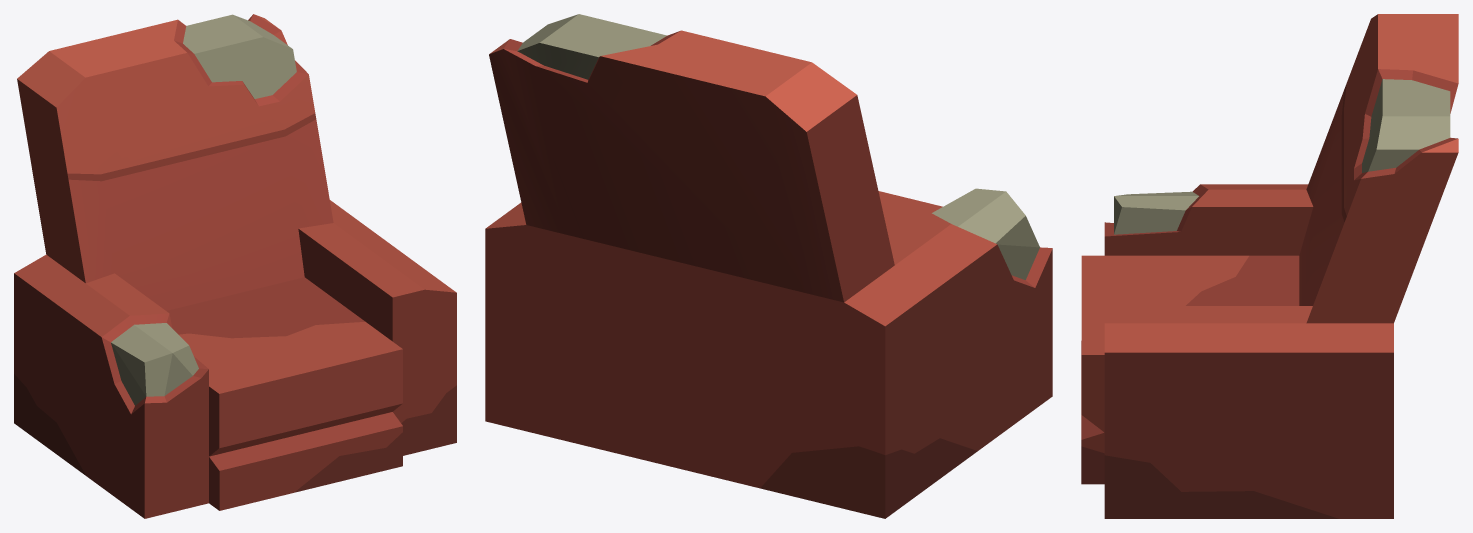
Rendered from SA_Prop_Chair_Damaged_02.glb.
3 views of the same model, side by side, from view 1: azimuth 30°, elevation 25°; view 2: azimuth 150°, elevation 25°; view 3: azimuth 270°, elevation 25° (orthographic). The views are drawn at different scales.
Parts seen in each view (by area): view 1: SA_Prop_Chair_Damaged_02; view 2: SA_Prop_Chair_Damaged_02; view 3: SA_Prop_Chair_Damaged_02.
Part boxes in pixels (left/top/right/bottom): SA_Prop_Chair_Damaged_02: left=14, top=14, right=456, bottom=518; SA_Prop_Chair_Damaged_02: left=485, top=14, right=1052, bottom=518; SA_Prop_Chair_Damaged_02: left=1081, top=14, right=1458, bottom=518.
Bounding box in the file's own units: 0.9272 × 0.9519 × 0.877.
Materials: 1 (1 with a texture image).
